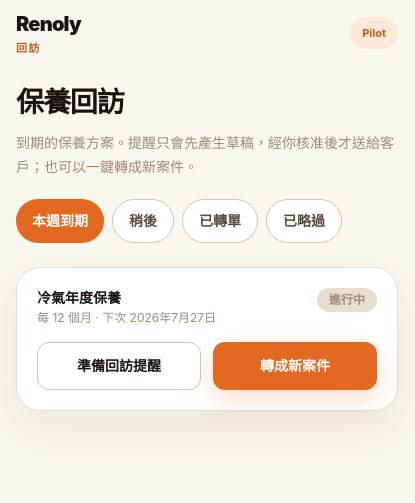
FollowUpsView › converts even when the response omits a request number
The width and height of the screenshot is (415, 503).
Expected: the text "冷氣年度保養" is shown, [37,288,121,306]
Click the button "轉成新案件". click: (295, 366)
box: [213,342,377,390]
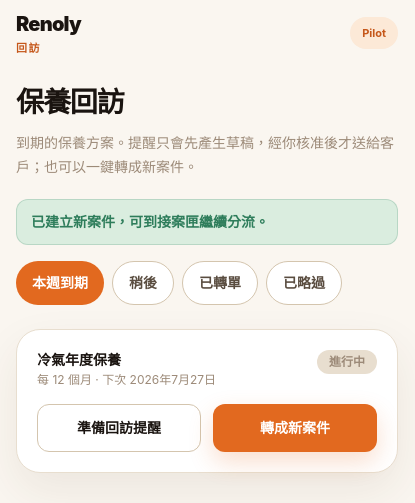
Result: the text "已建立新案件，可到接案匣繼續分流。" is shown at [16,198,398,244]
